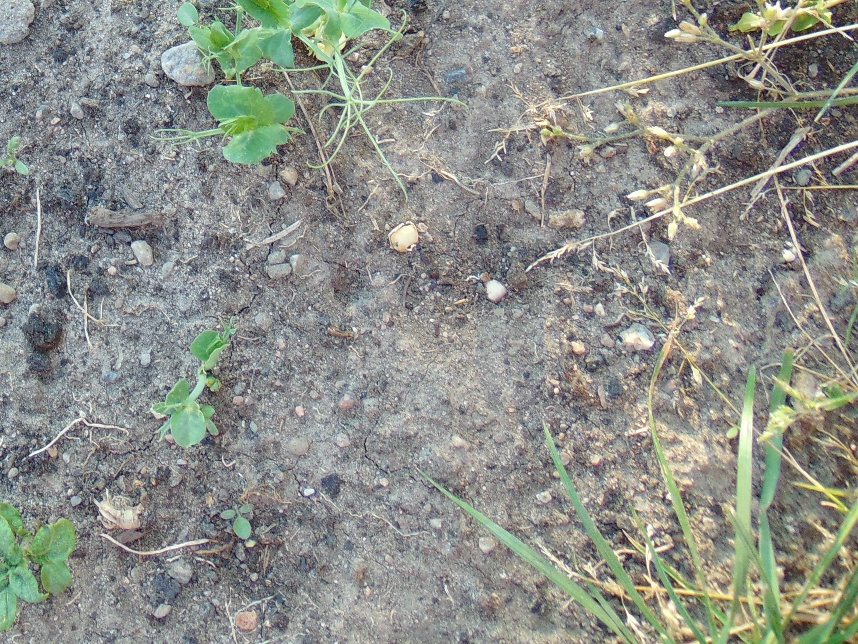crop: (171, 1, 400, 162), (156, 83, 307, 170), (154, 315, 237, 446)
weed: (579, 532, 858, 643), (710, 1, 855, 110), (1, 500, 79, 628), (1, 127, 30, 179), (220, 501, 255, 540), (175, 2, 201, 26)
